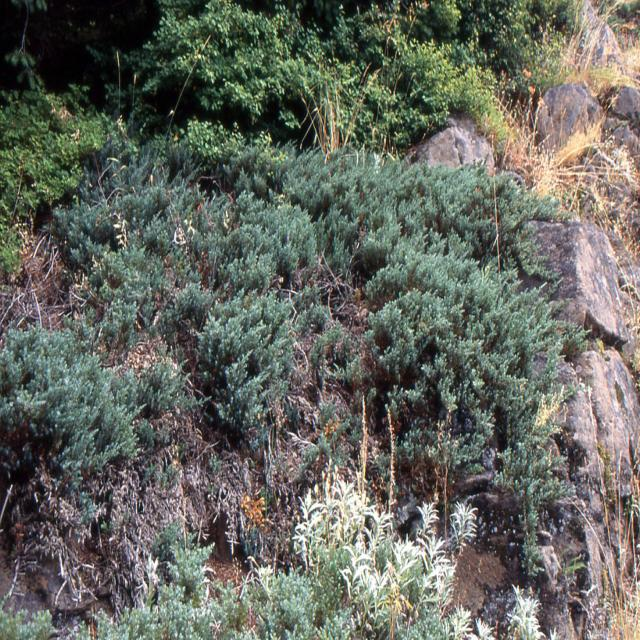Juniperus communis: (18, 145, 559, 528)
